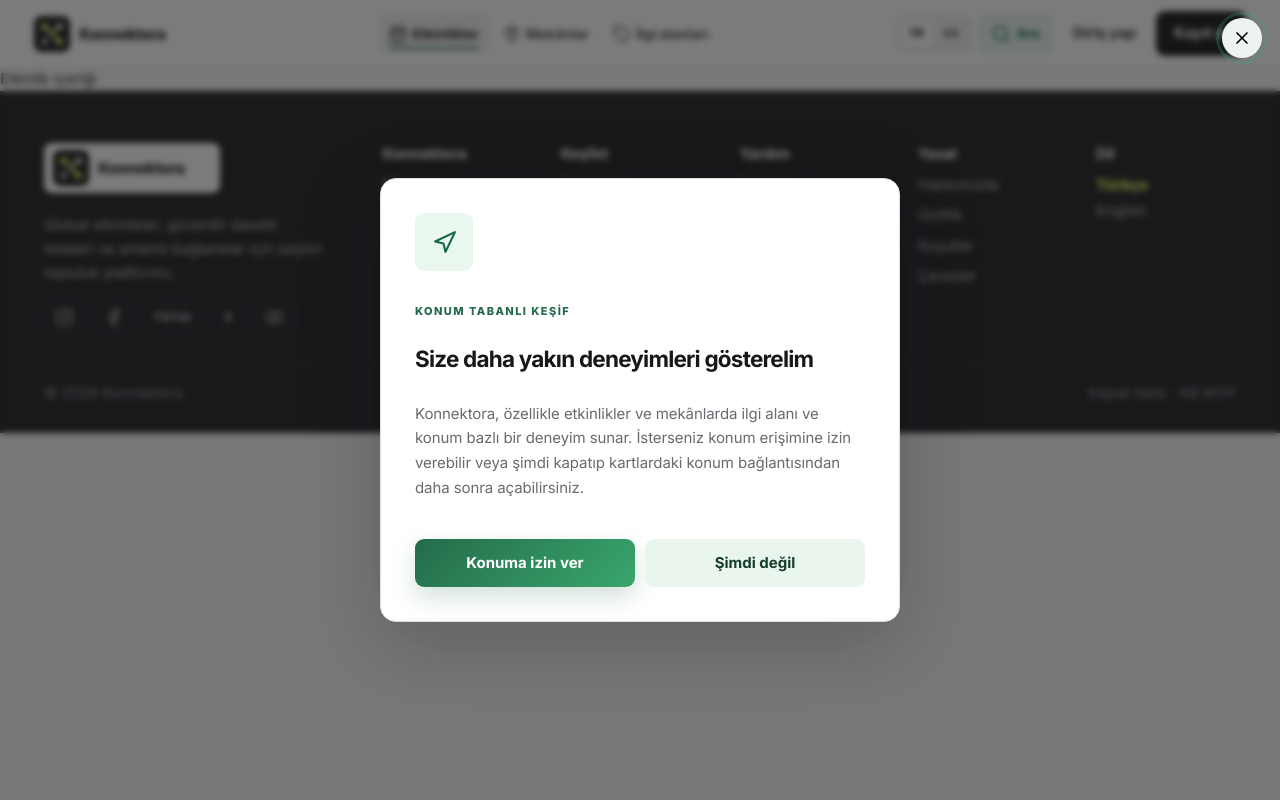
Test case: 157 maddelik listenin kritik web davranışları › konum tanıtımını izin istemeden kapatmaya izin verir
Expected: the dialog "Size daha yakın deneyimleri gösterelim" is shown, left=380, top=178, right=900, bottom=622
Click the button "Şimdi değil".
click(755, 563)  # box left=645, top=539, right=865, bottom=587
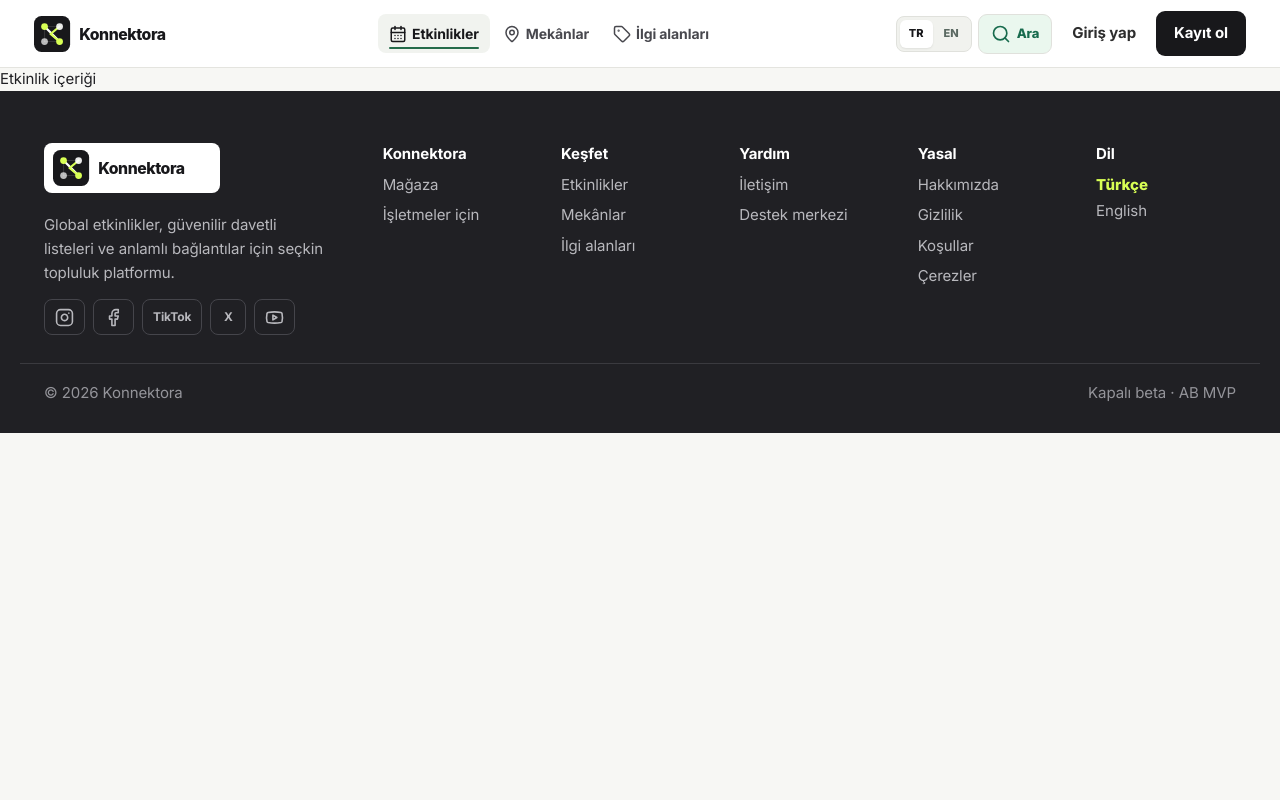
Now the heading "Size daha yakın deneyimleri gösterelim" is gone
